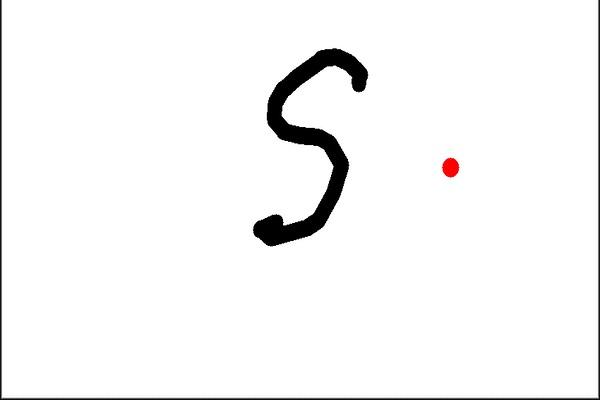S: (245, 42, 373, 251)
